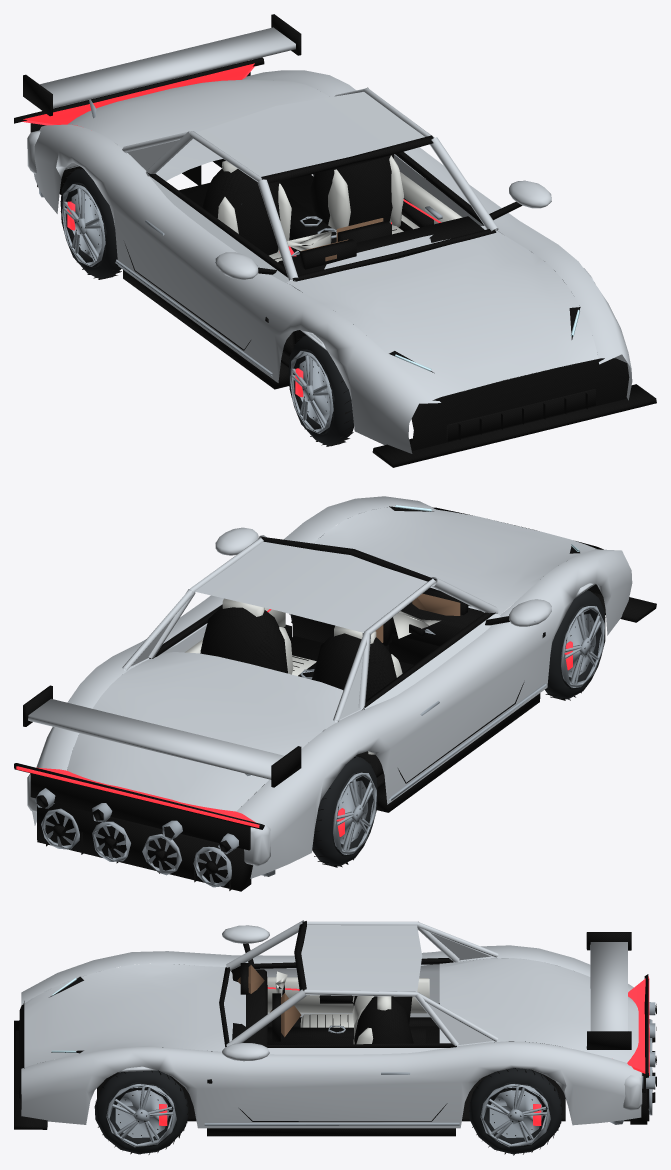
The model's file is DR_Asterion_LOD2.fbx.
The picture shows the model from 3 angles, top to bottom: view 1: azimuth 30°, elevation 25°; view 2: azimuth 150°, elevation 25°; view 3: azimuth 270°, elevation 25°; orthographic projection. The views are drawn at different scales.
Visible parts, largest first — view 1: DR_Asterion_Roadster__DR_PearlAlloy, DR_Asterion_Roadster__DR_CarbonComposite, AeroWing__DR_PearlAlloy, DR_Asterion_Roadster__DR_IvoryMicrofiber, Wheel_FL__DR_PerformanceRubber, Wheel_RL__DR_BrushedTitanium, Wheel_FL__DR_BrushedTitanium, Wheel_RL__DR_PerformanceRubber, DR_Asterion_Roadster__DR_RedLED, AeroWing__DR_CarbonComposite, DR_Asterion_Roadster__DR_BrushedTitanium; view 2: DR_Asterion_Roadster__DR_PearlAlloy, DR_Asterion_Roadster__DR_CarbonComposite, AeroWing__DR_PearlAlloy, DR_Asterion_Roadster__DR_BrushedTitanium, Wheel_RL__DR_PerformanceRubber, Wheel_FL__DR_PerformanceRubber, Wheel_RL__DR_BrushedTitanium, Wheel_FL__DR_BrushedTitanium, DR_Asterion_Roadster__DR_IvoryMicrofiber, DR_Asterion_Roadster__DR_RedLED, AeroWing__DR_CarbonComposite, DR_Asterion_Roadster__DR_CopperSmokedGlass (+1 smaller); view 3: DR_Asterion_Roadster__DR_PearlAlloy, DR_Asterion_Roadster__DR_CarbonComposite, Wheel_RR__DR_PerformanceRubber, Wheel_FR__DR_PerformanceRubber, AeroWing__DR_PearlAlloy, DR_Asterion_Roadster__DR_IvoryMicrofiber, Wheel_FR__DR_BrushedTitanium, Wheel_RR__DR_BrushedTitanium, DR_Asterion_Roadster__DR_BrushedTitanium, AeroWing__DR_CarbonComposite, DR_Asterion_Roadster__DR_RedLED, DR_Asterion_Roadster__DR_CopperSmokedGlass.
Boxes of the visible parts, x1,y1,x2,y2 form: DR_Asterion_Roadster__DR_PearlAlloy: (27, 70, 632, 453); DR_Asterion_Roadster__DR_CarbonComposite: (14, 57, 656, 467); AeroWing__DR_PearlAlloy: (40, 27, 295, 108); DR_Asterion_Roadster__DR_IvoryMicrofiber: (217, 155, 462, 262); Wheel_FL__DR_PerformanceRubber: (288, 335, 353, 445); Wheel_RL__DR_BrushedTitanium: (62, 184, 105, 266); Wheel_FL__DR_BrushedTitanium: (290, 351, 333, 433); Wheel_RL__DR_PerformanceRubber: (60, 168, 121, 278); DR_Asterion_Roadster__DR_RedLED: (22, 63, 441, 256); AeroWing__DR_CarbonComposite: (23, 14, 301, 116); DR_Asterion_Roadster__DR_BrushedTitanium: (39, 189, 442, 376); DR_Asterion_Roadster__DR_PearlAlloy: (27, 496, 632, 878); DR_Asterion_Roadster__DR_CarbonComposite: (14, 506, 656, 891); AeroWing__DR_PearlAlloy: (28, 698, 284, 779); DR_Asterion_Roadster__DR_BrushedTitanium: (34, 621, 546, 887); Wheel_RL__DR_PerformanceRubber: (312, 756, 377, 866); Wheel_FL__DR_PerformanceRubber: (545, 590, 605, 699); Wheel_RL__DR_BrushedTitanium: (333, 772, 376, 854); Wheel_FL__DR_BrushedTitanium: (561, 606, 604, 687); DR_Asterion_Roadster__DR_IvoryMicrofiber: (185, 598, 402, 754); DR_Asterion_Roadster__DR_RedLED: (16, 609, 271, 827); AeroWing__DR_CarbonComposite: (23, 685, 301, 787); DR_Asterion_Roadster__DR_CopperSmokedGlass: (375, 593, 460, 642); DR_Asterion_Roadster__DR_PearlAlloy: (21, 920, 642, 1128); DR_Asterion_Roadster__DR_CarbonComposite: (14, 921, 656, 1136); Wheel_RR__DR_PerformanceRubber: (468, 1068, 562, 1154); Wheel_FR__DR_PerformanceRubber: (94, 1070, 188, 1154); AeroWing__DR_PearlAlloy: (590, 942, 627, 1031); DR_Asterion_Roadster__DR_IvoryMicrofiber: (267, 977, 429, 1044); Wheel_FR__DR_BrushedTitanium: (106, 1084, 176, 1147); Wheel_RR__DR_BrushedTitanium: (480, 1084, 550, 1147); DR_Asterion_Roadster__DR_BrushedTitanium: (204, 1002, 655, 1125); AeroWing__DR_CarbonComposite: (586, 932, 631, 1049); DR_Asterion_Roadster__DR_RedLED: (267, 976, 649, 1075); DR_Asterion_Roadster__DR_CopperSmokedGlass: (237, 965, 301, 1037).
Size of the model in its own units: 231 by 125 by 481.
Materials: 9 (1 with a texture image).
